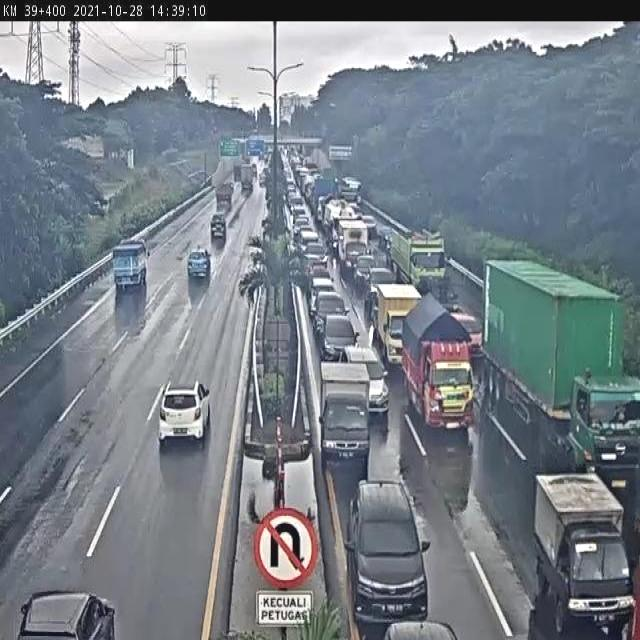Car: (345, 478, 432, 636), (16, 590, 117, 640), (157, 379, 211, 448), (339, 344, 389, 417), (311, 288, 351, 339), (321, 313, 362, 362), (365, 264, 396, 304), (308, 276, 336, 316), (307, 260, 334, 291), (187, 246, 211, 278), (302, 240, 328, 266), (298, 228, 320, 252), (210, 212, 227, 242), (375, 226, 394, 251), (361, 215, 378, 239), (292, 218, 310, 238), (288, 195, 303, 214), (292, 203, 306, 223), (299, 224, 314, 233), (297, 212, 312, 219)
Truck: (482, 257, 640, 491), (529, 471, 635, 636), (400, 291, 476, 432), (318, 364, 372, 466), (374, 281, 424, 367), (388, 226, 448, 292), (334, 215, 369, 277), (112, 238, 150, 292), (323, 198, 355, 244), (312, 176, 338, 210), (339, 177, 362, 201), (240, 163, 256, 192), (215, 182, 234, 206), (233, 164, 243, 182)
